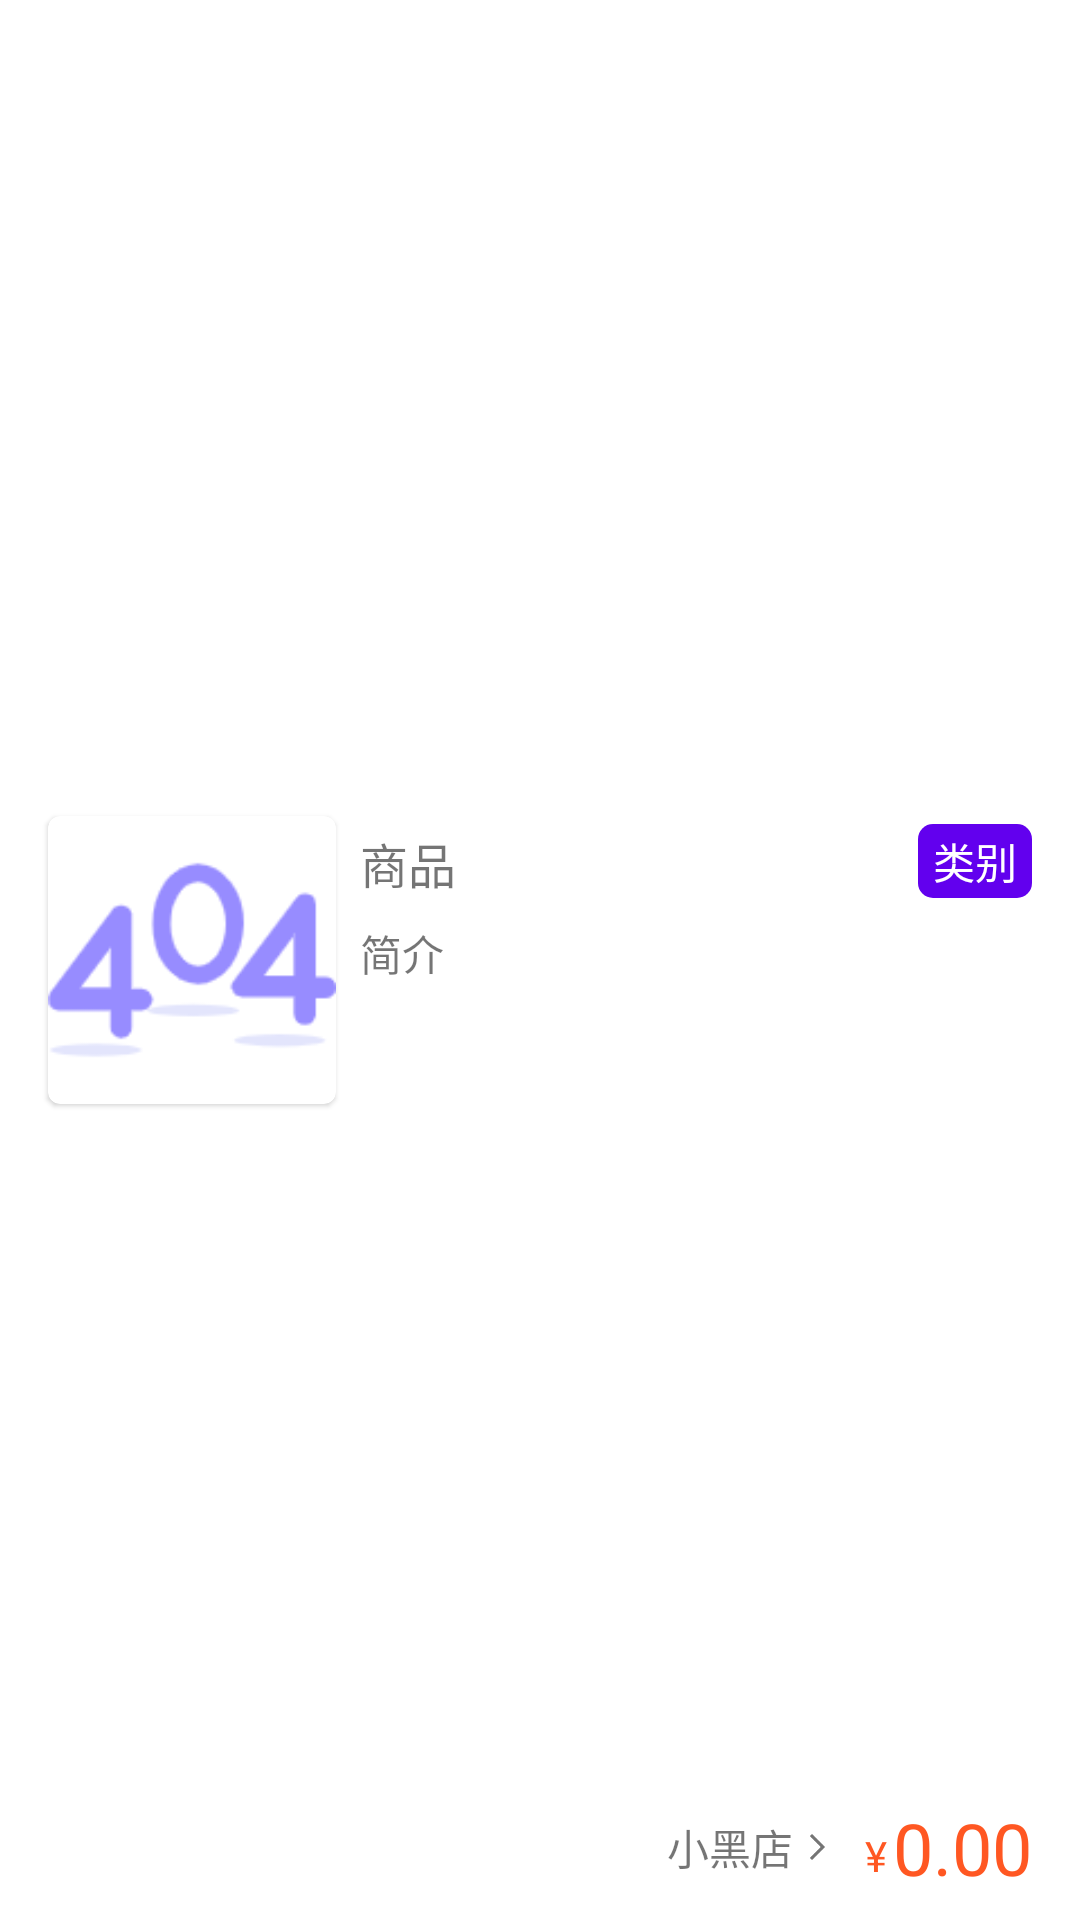

Where to tap for icons on this 1080px x 1920px app screen, as point (x, y):
bitmap: point (192, 983)
bitmap arrow right: point (817, 1847)
